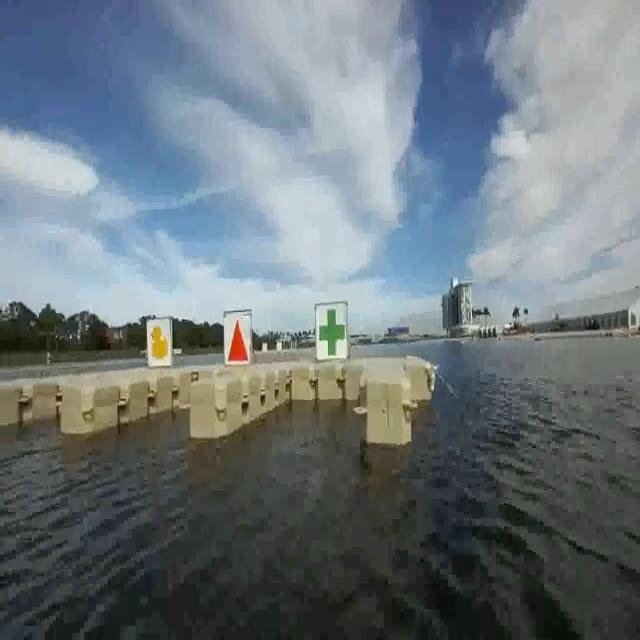blue-cross: (314, 304, 350, 363)
red-dot: (224, 310, 252, 364)
yellow-duck: (143, 320, 172, 368)
